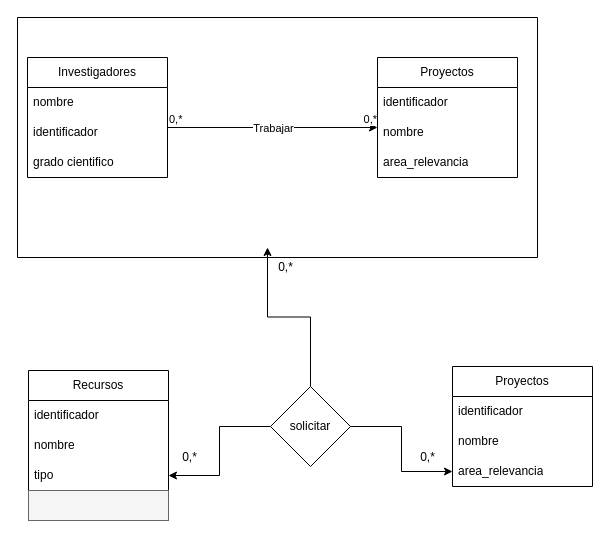
The diagram is 610 pixels wide and 538 high, and some of its shapes have lost their labels. The centre of each missing label's shape, as x and y in pixels:
"descripcion" goes at [98,505].
"Investigador Vinculado" goes at [277,137].
